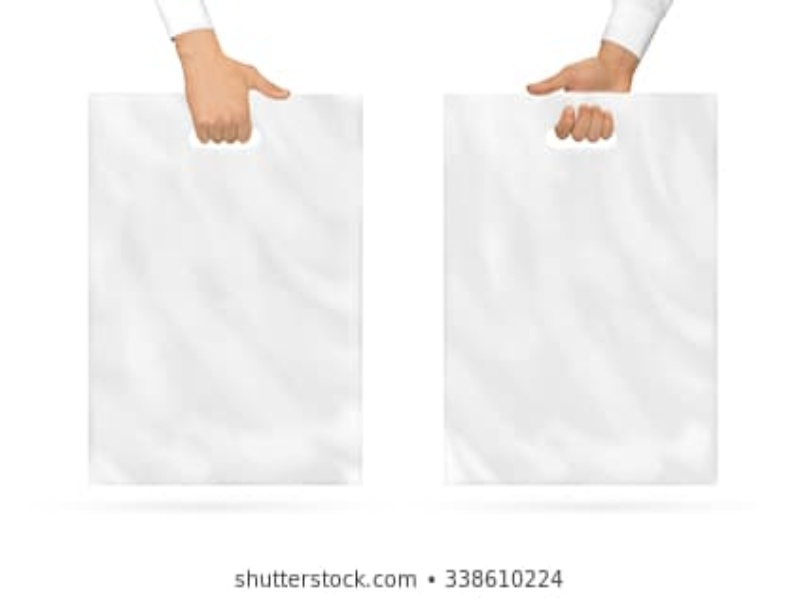plastic-bag: (437, 88, 727, 492), (79, 85, 369, 489)
